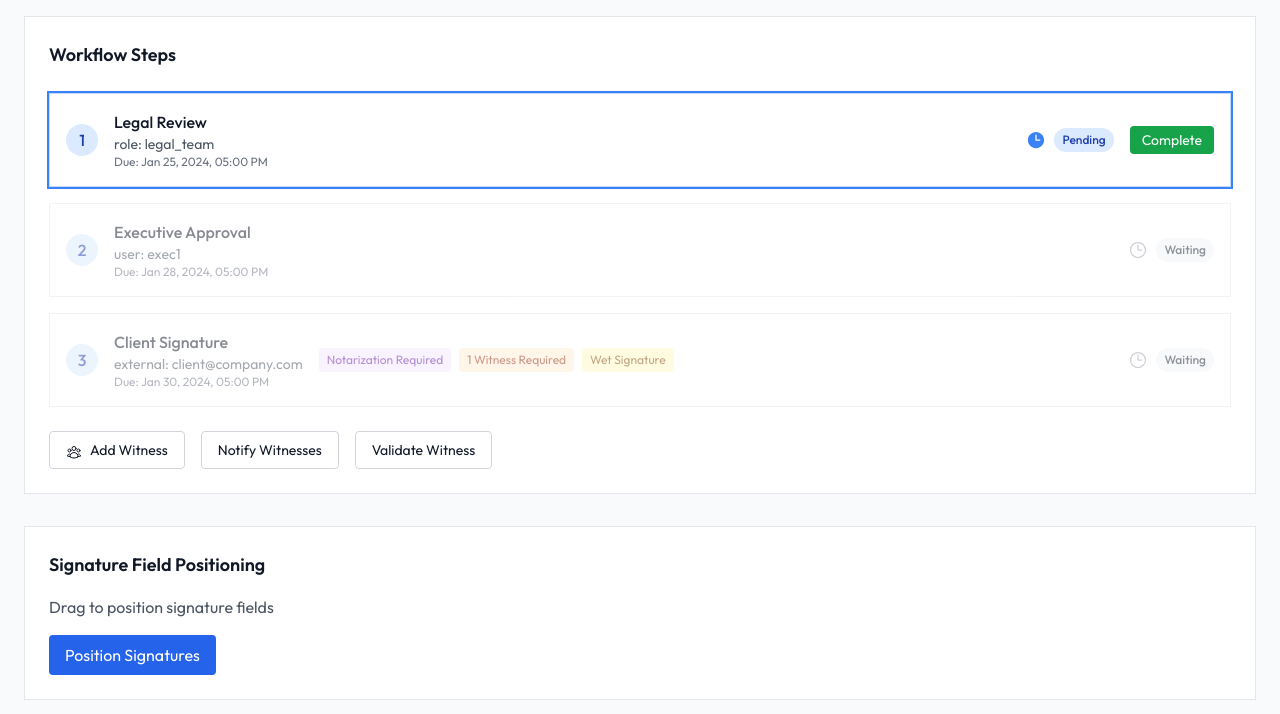
SignatureWorkflowEngine › Wet Signature Tracking › should show wet signature instructions
(page scrolled)
Click the element with test id "step-step3" at (640, 360), box x1=49 y1=313 x2=1231 y2=407
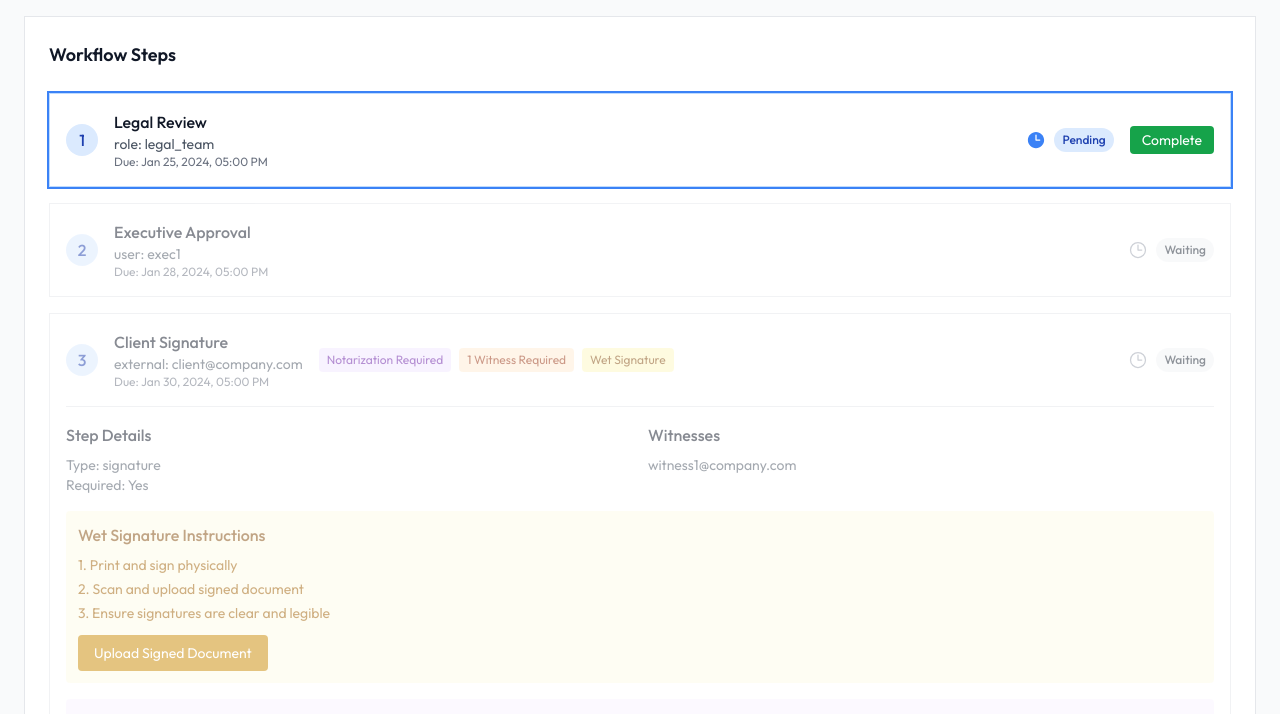
Check: the element with test id "wet-signature-instructions" is shown, box x1=66 y1=511 x2=1214 y2=683
Check: the list item "1. Print and sign physically" is shown, box x1=78 y1=556 x2=238 y2=574
Check: the list item "2. Scan and upload signed document" is shown, box x1=78 y1=580 x2=304 y2=598
